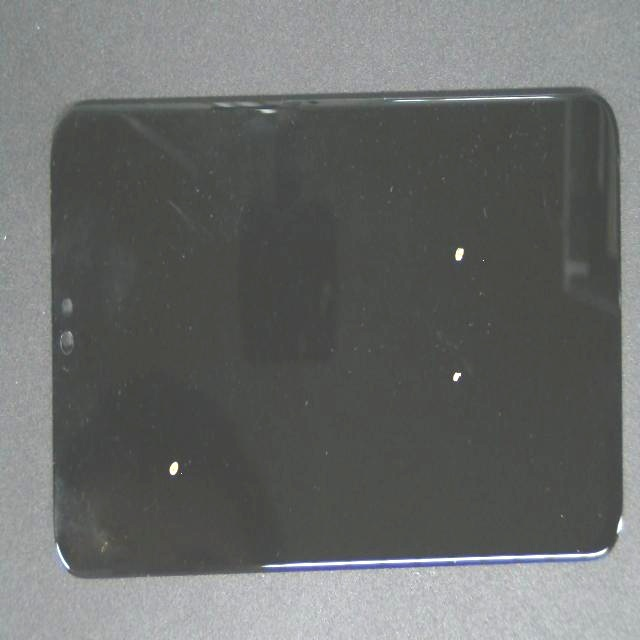stain: (214, 181, 640, 585), (223, 111, 640, 391), (98, 202, 258, 640)
